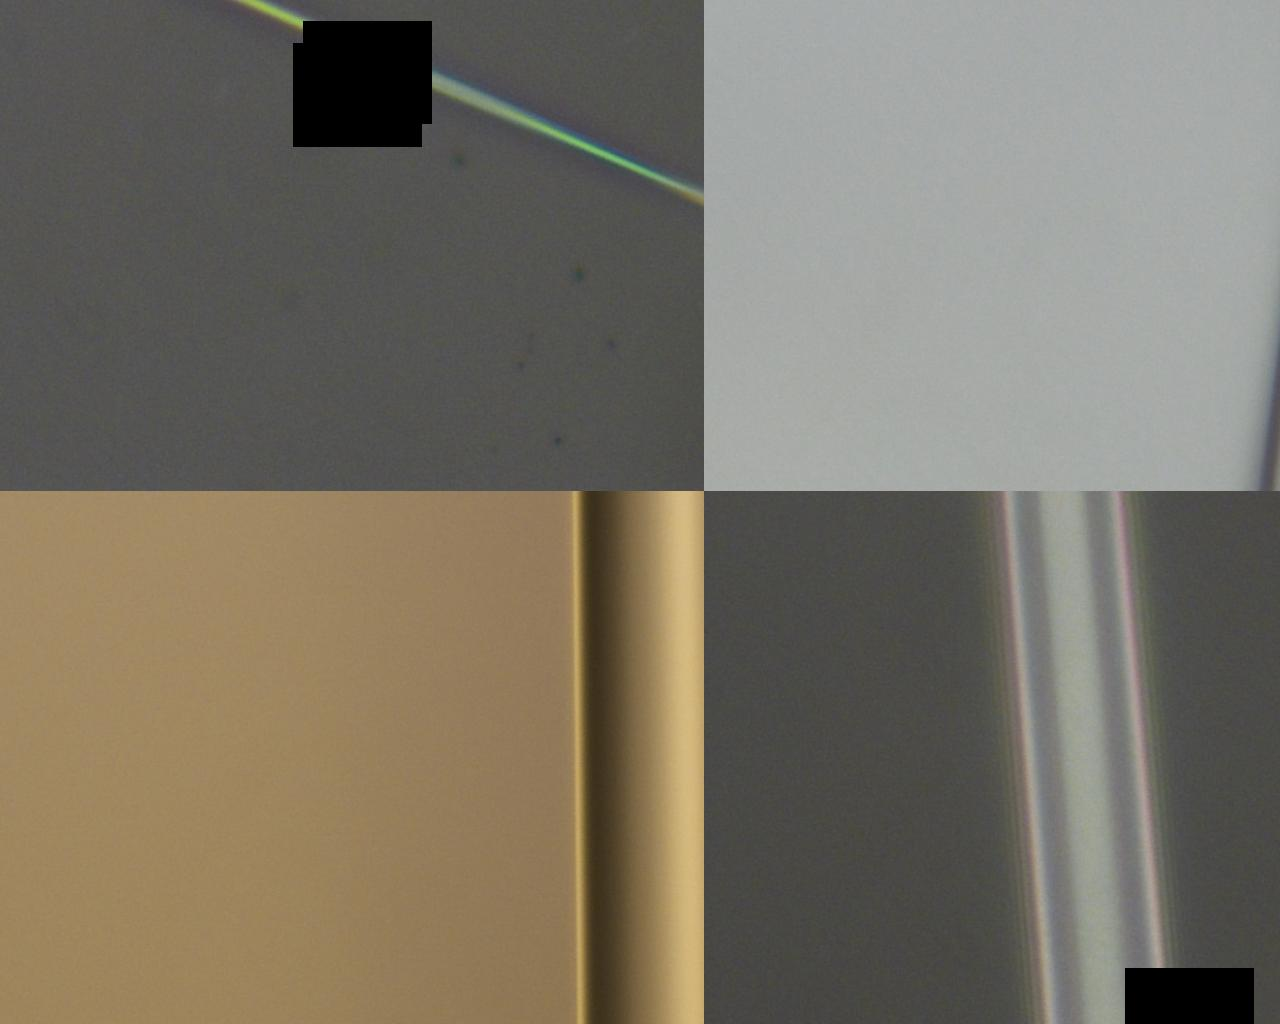fiber: (127, 412, 1151, 590)
